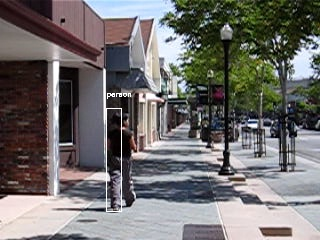person: (106, 109, 137, 211), (105, 109, 136, 211), (107, 109, 138, 211), (106, 108, 137, 210), (106, 110, 137, 212)
target_negative: (207, 45, 281, 185), (32, 193, 182, 225), (222, 55, 250, 207), (226, 91, 314, 135), (106, 84, 252, 94), (303, 31, 307, 34)
